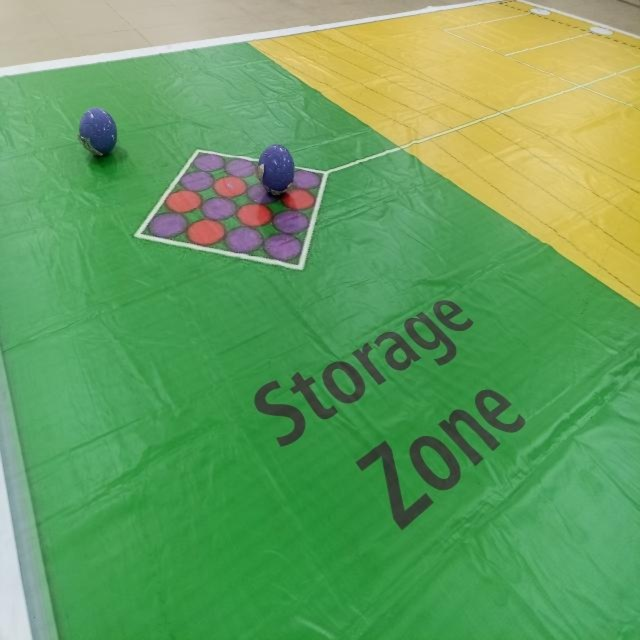purple_ball: (252, 137, 299, 204), (78, 100, 121, 164)
